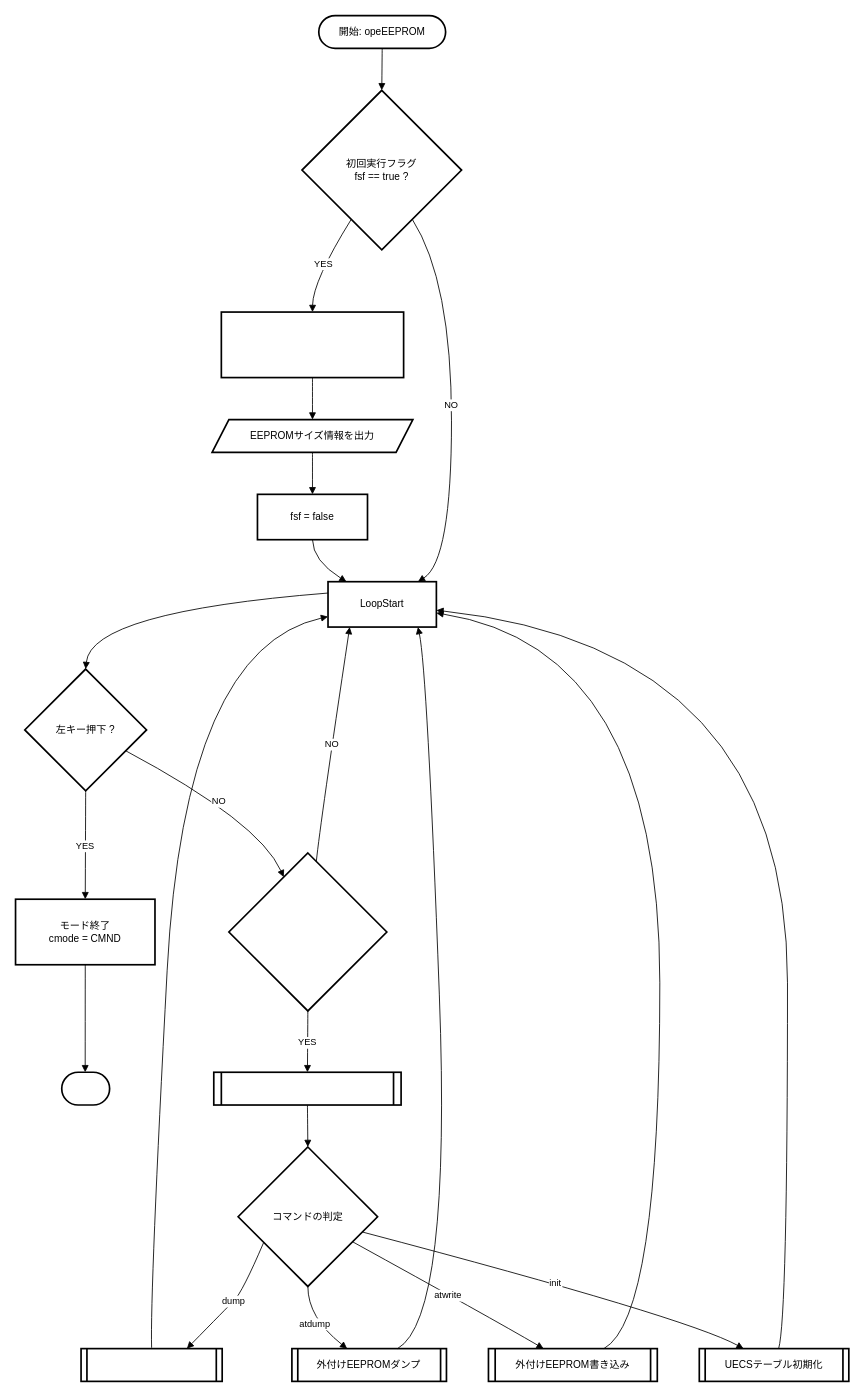
This 864x1396 diagram has some shape labels left out. The centre of each missing label's shape, as x and y in pixels:
"LCD表示初期化 Serial 115200bps 開始" belongs at [312,344].
"シリアル入力あり?" belongs at [307,931].
"シリアル文字列の読み込み" belongs at [307,1088].
"内蔵EEPROMダンプ" belongs at [151,1364].
"終了" belongs at [85,1088].
